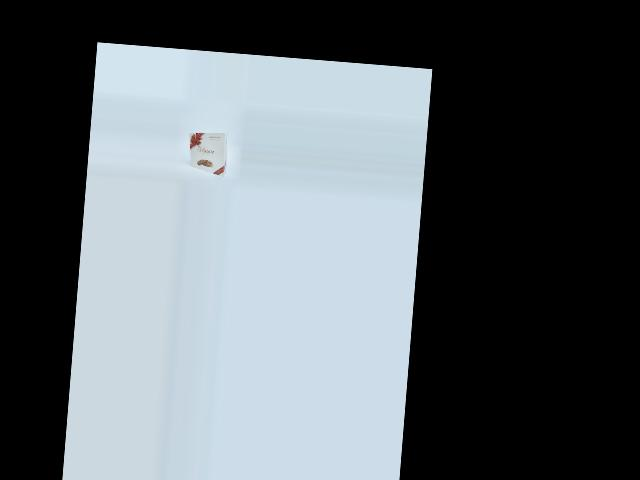chocolate: (185, 131, 237, 179)
